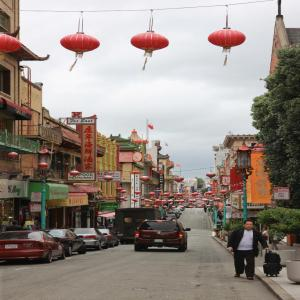Vehicle-registration-plate: (5, 245, 20, 250), (157, 239, 165, 244)
